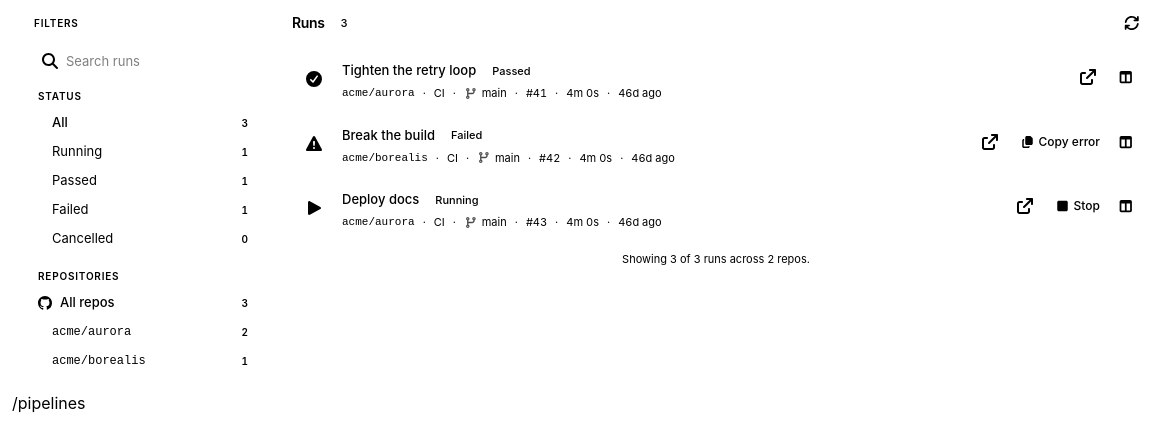
Test: PipelinesPage run list › opens the project a run belongs to, on its git tab
Check: the text "Break the build" is shown, box [342,127,435,144]
Click the button named "Open Borealis". click: point(1126, 142)
box: [1110,126,1142,158]
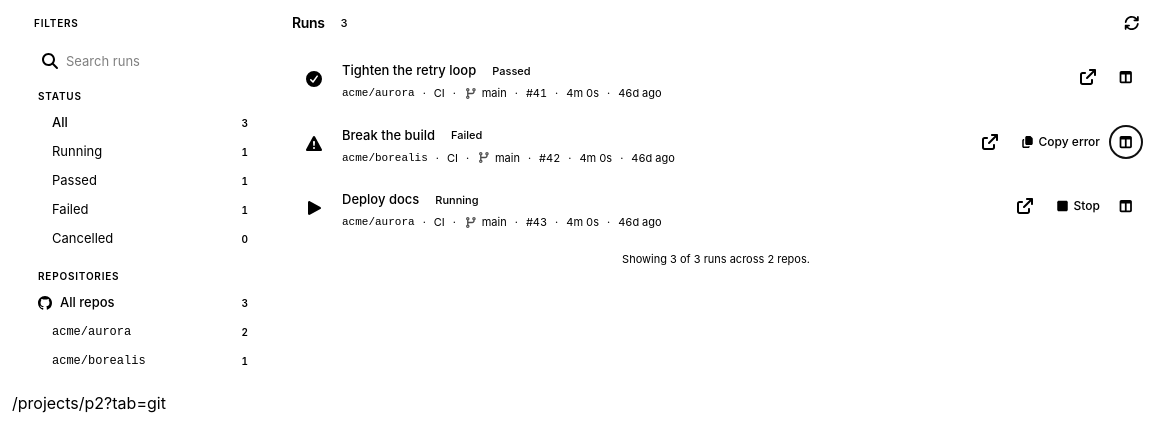
Check: the text with test id "location" reads "/projects/p2?tab=git", box [12,393,166,413]
